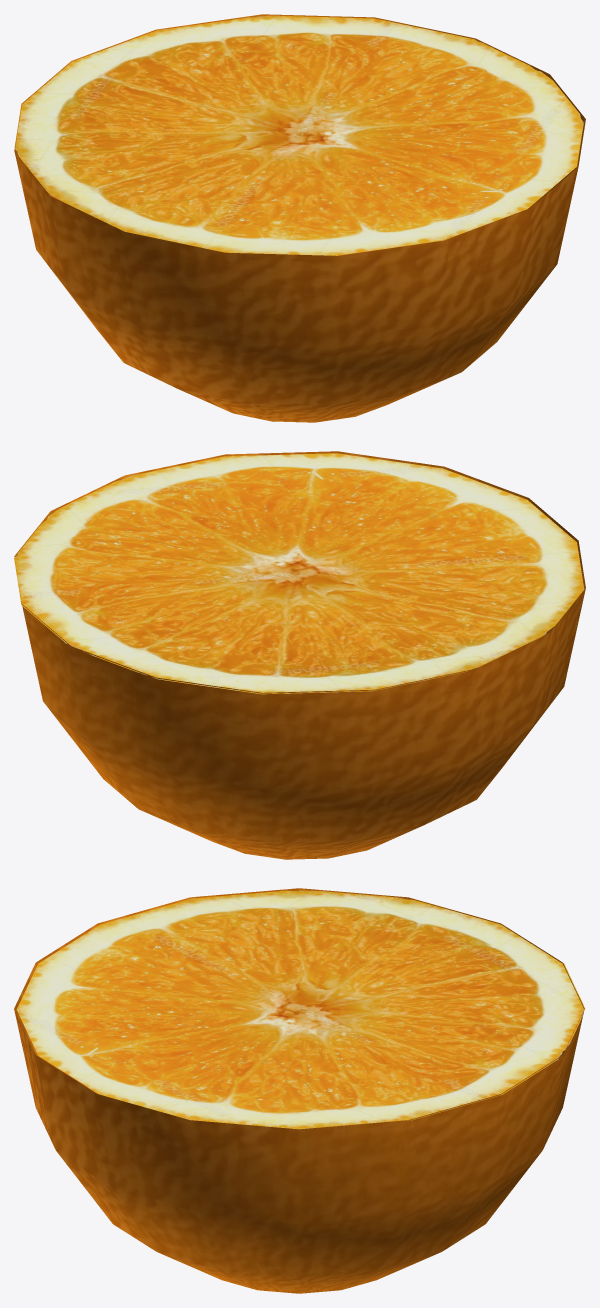
3 renders of one model, top to bottom at view 1: azimuth 30°, elevation 25°; view 2: azimuth 150°, elevation 25°; view 3: azimuth 270°, elevation 25°, orthographic.
Parts seen in each view (by area): view 1: Disc, Orange; view 2: Disc, Orange; view 3: Disc, Orange.
Boxes of the visible parts, x1=… form: Disc: x1=14, y1=15, x2=583, y2=255; Orange: x1=14, y1=14, x2=585, y2=422; Disc: x1=14, y1=453, x2=584, y2=694; Orange: x1=14, y1=451, x2=585, y2=859; Disc: x1=16, y1=890, x2=585, y2=1128; Orange: x1=14, y1=888, x2=584, y2=1293.
Bounding box in the file's own units: 200 × 100 × 200.
